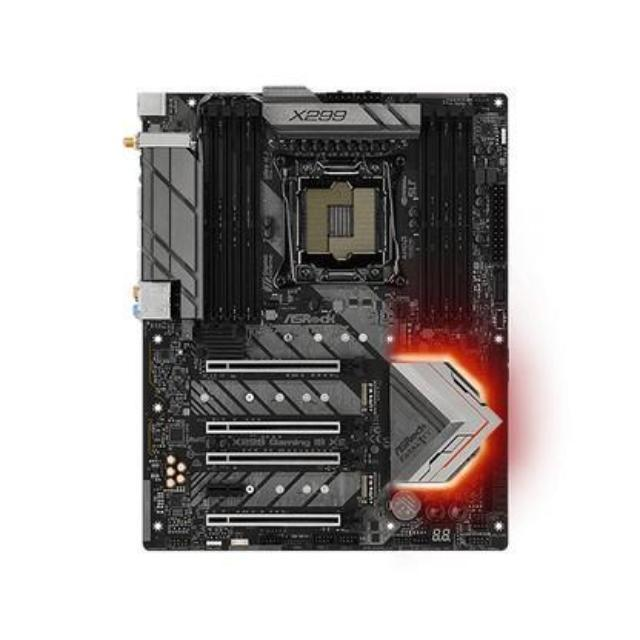Mainboard: (123, 77, 512, 568)
